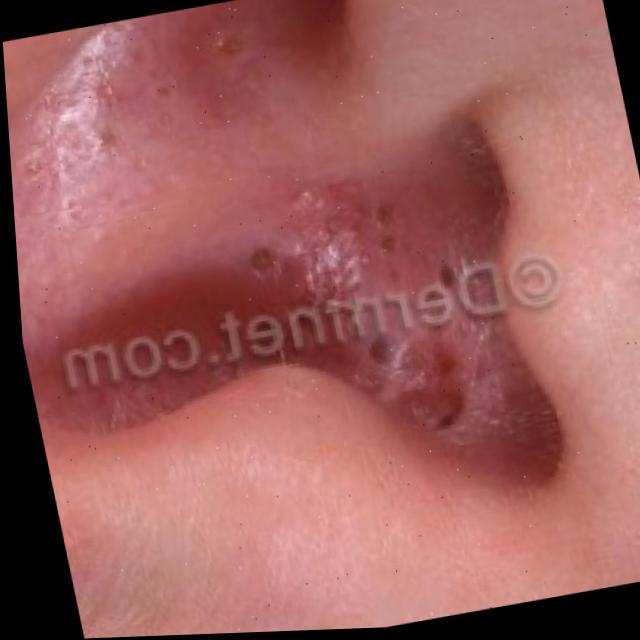Acne: (242, 199, 465, 409)
